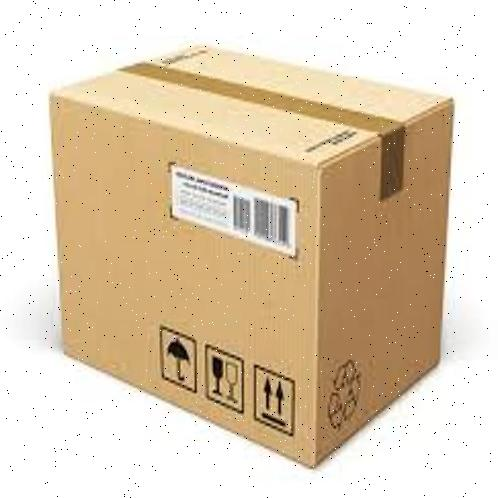Other: (48, 41, 451, 477)
